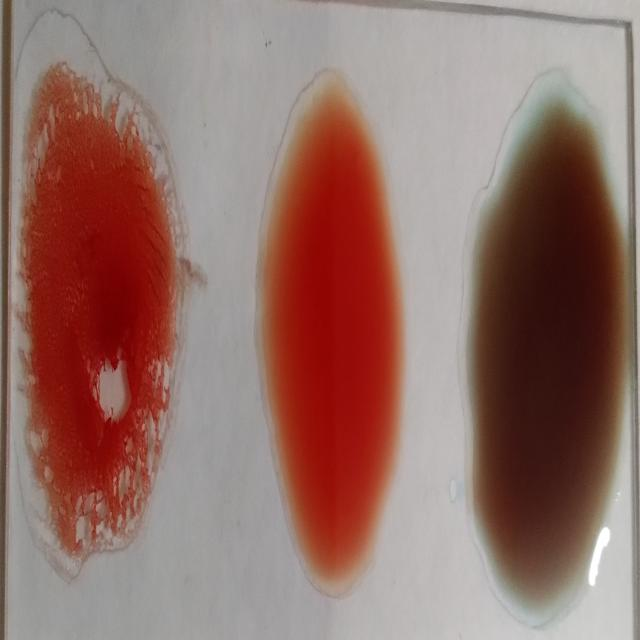D: (9, 33, 178, 579)
